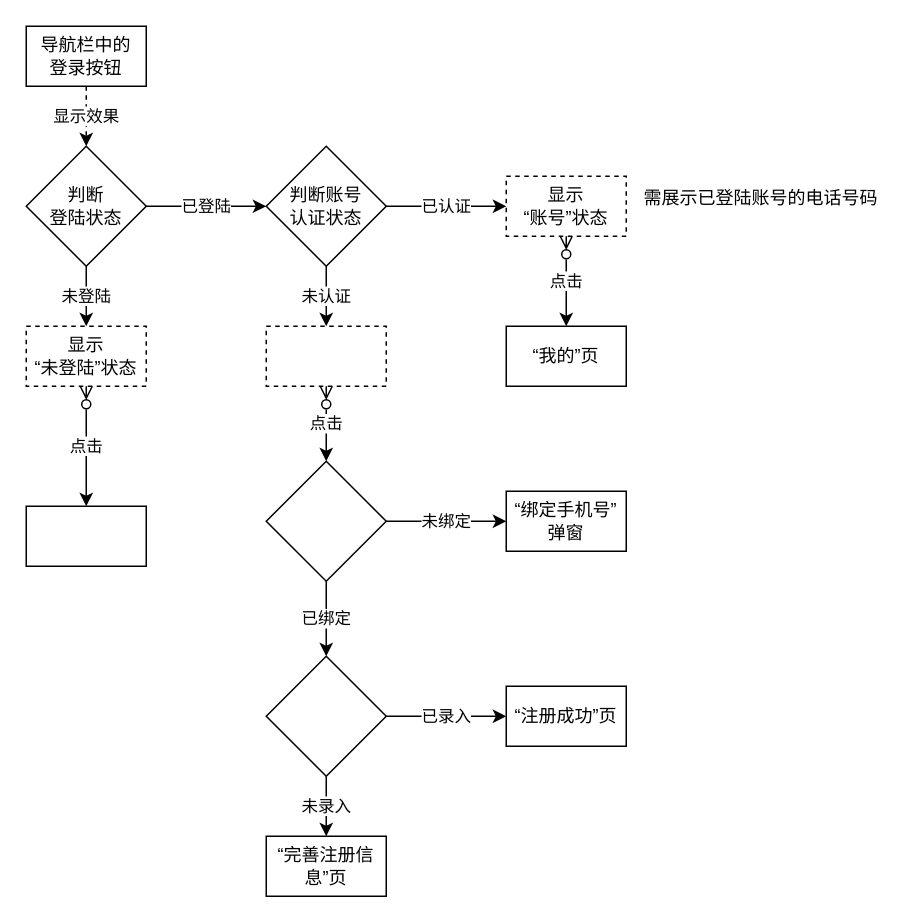
The diagram is 908 pixels wide and 923 high, and some of its shapes have lost their labels. The shapes that lost their labels are listed below. From the top down, each one's centre as x and y in pixels, then its label:
[325,355]: 显示 “未认证”状态
[85,535]: “登陆”弹窗
[325,520]: 判断手机号 绑定状态
[325,715]: 判断账号 资料状态
